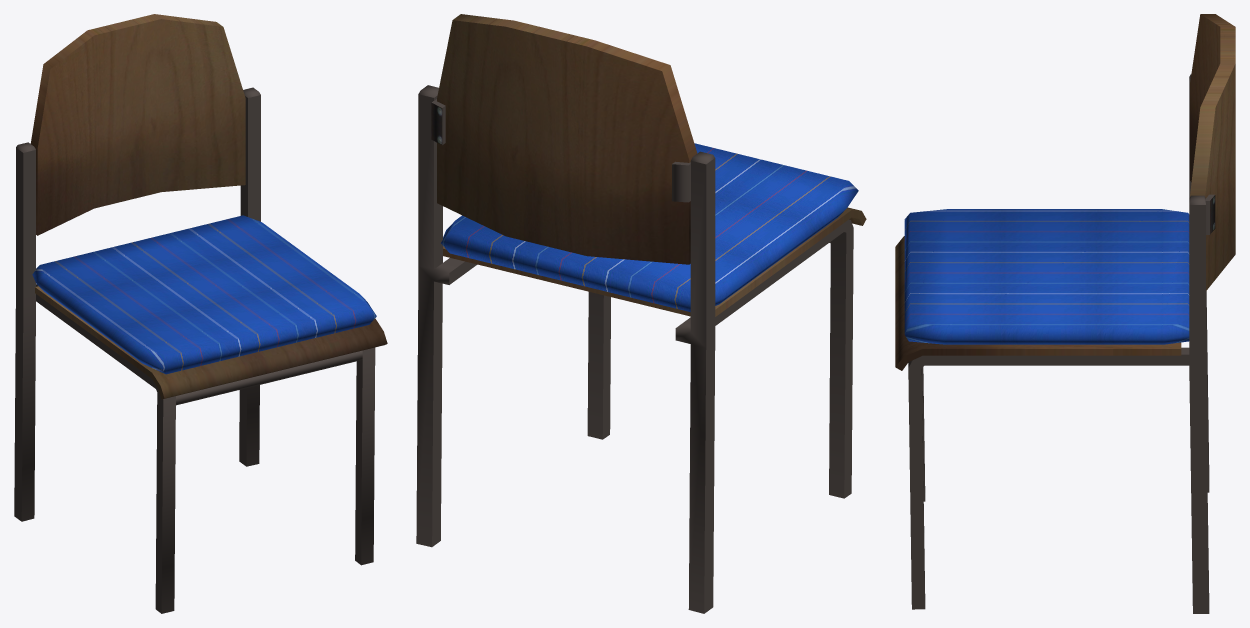
The model's file is chair_3.fbx.
3 views of the same model, side by side, from view 1: azimuth 30°, elevation 25°; view 2: azimuth 150°, elevation 25°; view 3: azimuth 270°, elevation 25° (orthographic). The views are drawn at different scales.
Parts seen in each view (by area): view 1: chair_3; view 2: chair_3; view 3: chair_3.
Part boxes in pixels (box(x1,y1,x2,y2)): chair_3: box(14, 14, 387, 613); chair_3: box(416, 14, 866, 613); chair_3: box(895, 14, 1235, 613).
Size of the model in its own units: 0.7808 by 1.44 by 0.8764.
